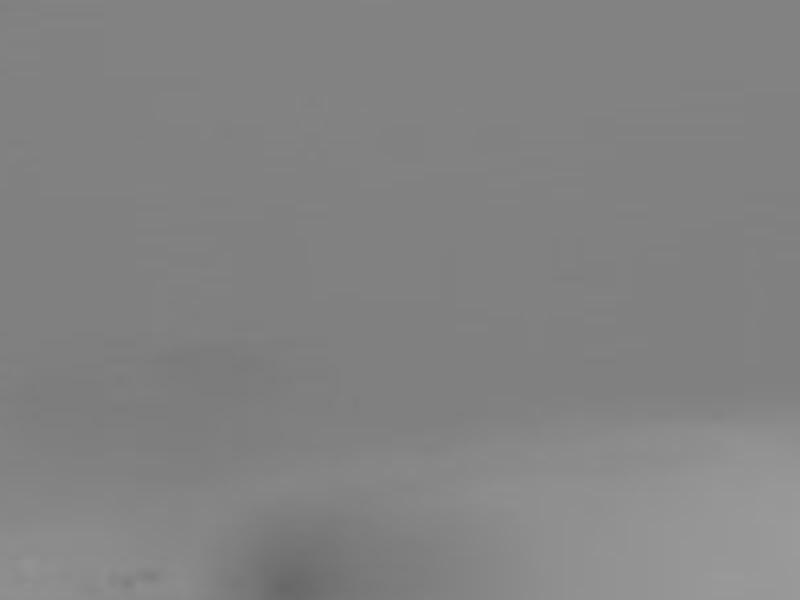defect: (133, 566, 162, 583), (116, 572, 134, 592)
